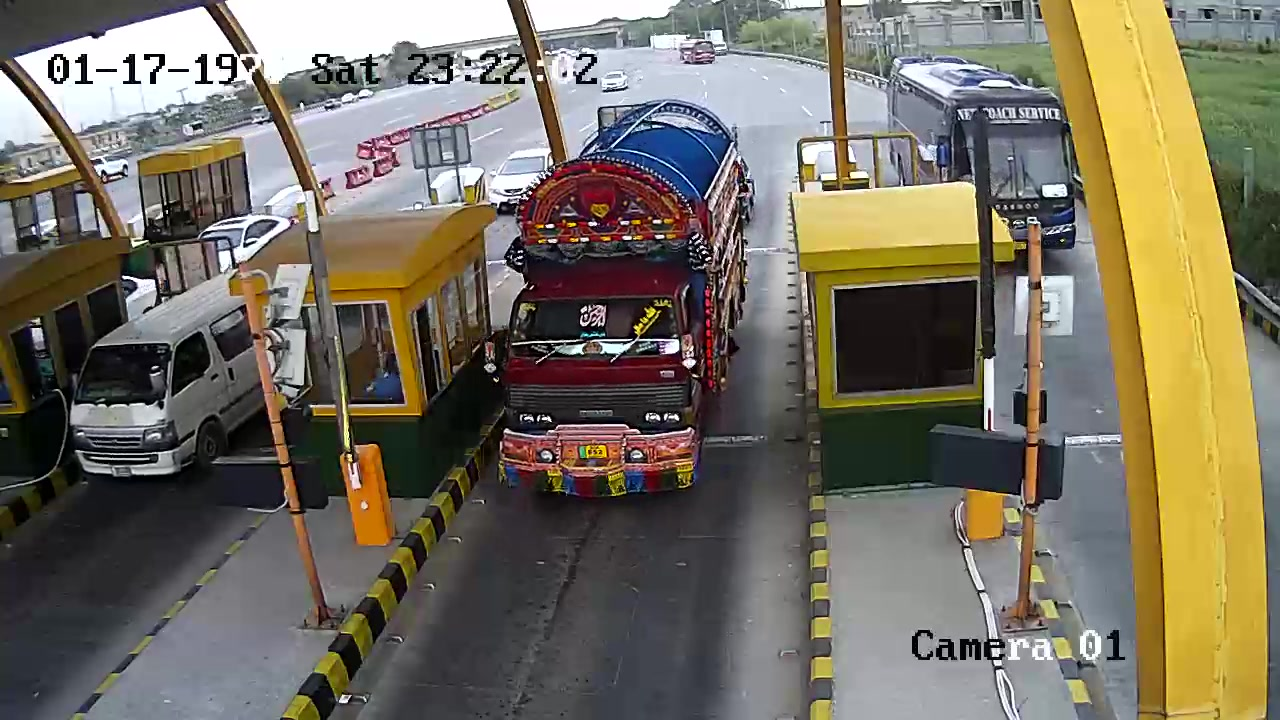F5: (501, 101, 758, 498)
